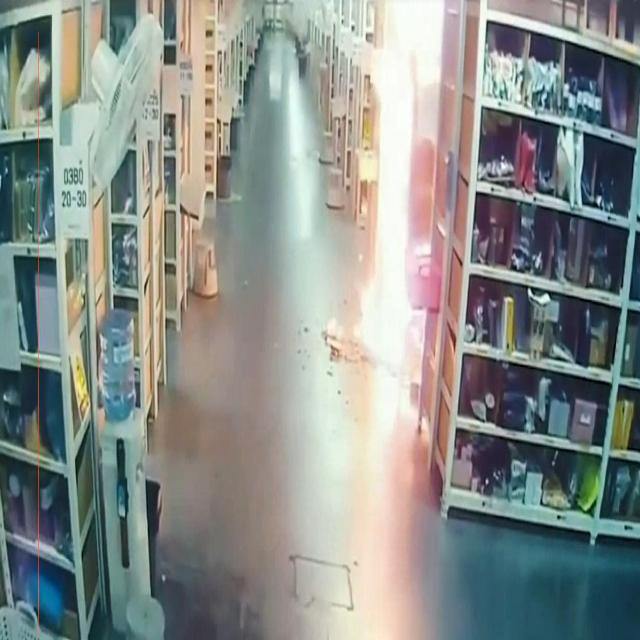Fire: (355, 0, 442, 367)
